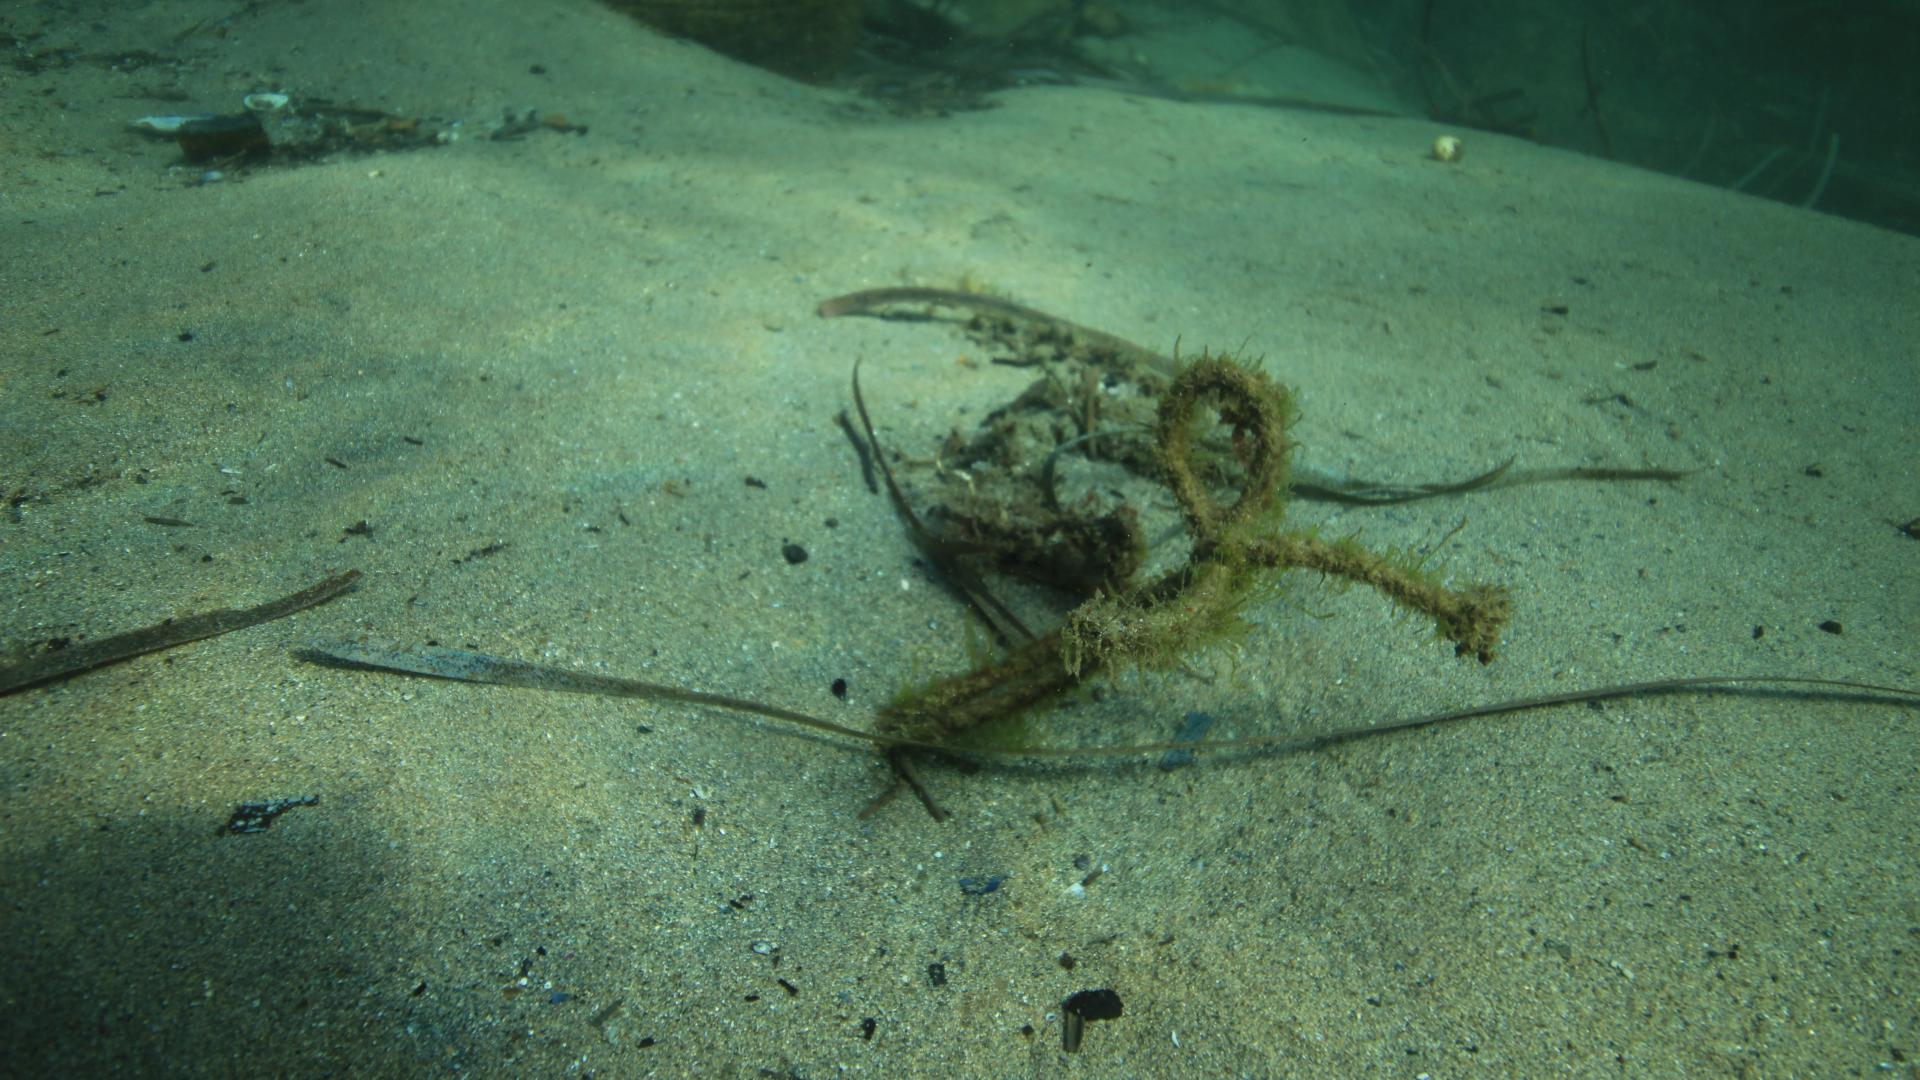bundle of ropes: (862, 351, 1447, 752)
